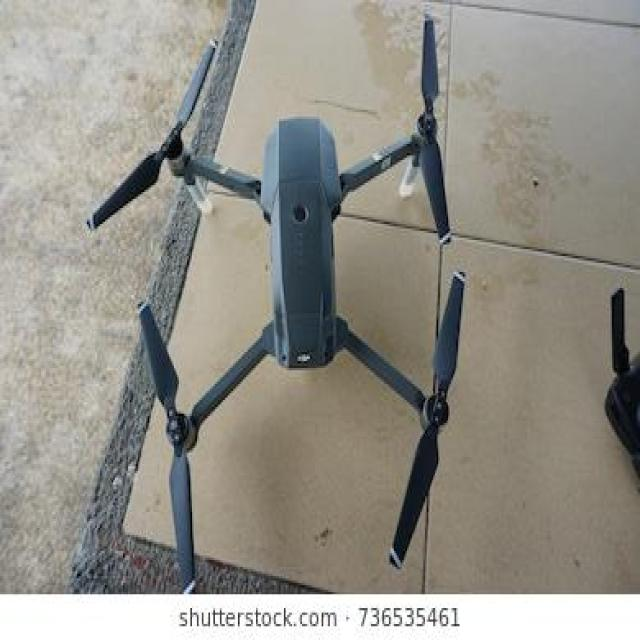drone: (79, 0, 512, 587)
